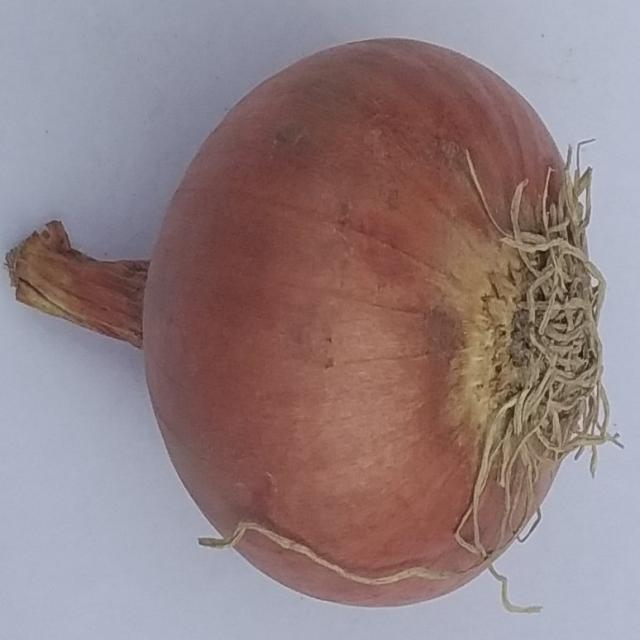onion: (6, 37, 624, 618)
